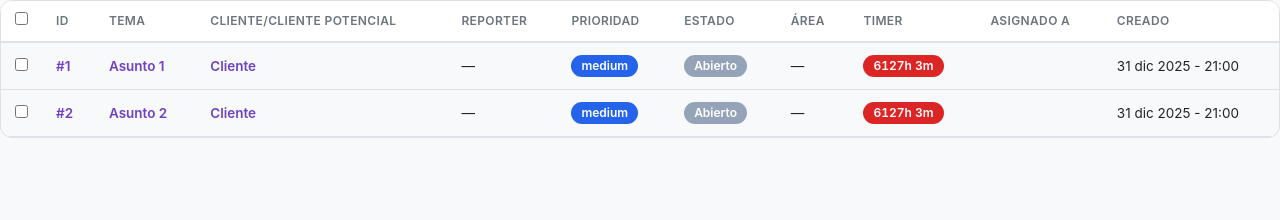
Test: TicketsTableView — permission gating › with write+close but no delete: Asignar/Cambiar estado/Cerrar show, Eliminar hidden
Click the checkbox named "Seleccionar todos". click: (22,18)
box: [15,12,28,25]
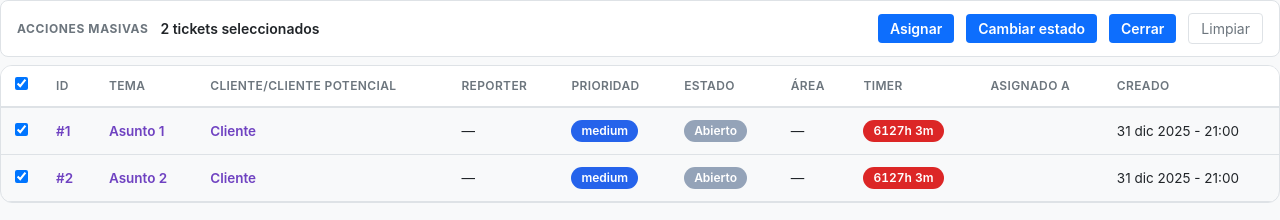
Expected: the button "Asignar" is shown, [878,14,954,43]
Expected: the button "Cambiar estado" is shown, [966,14,1097,43]
Expected: the button "Cerrar" is shown, [1109,14,1176,43]
